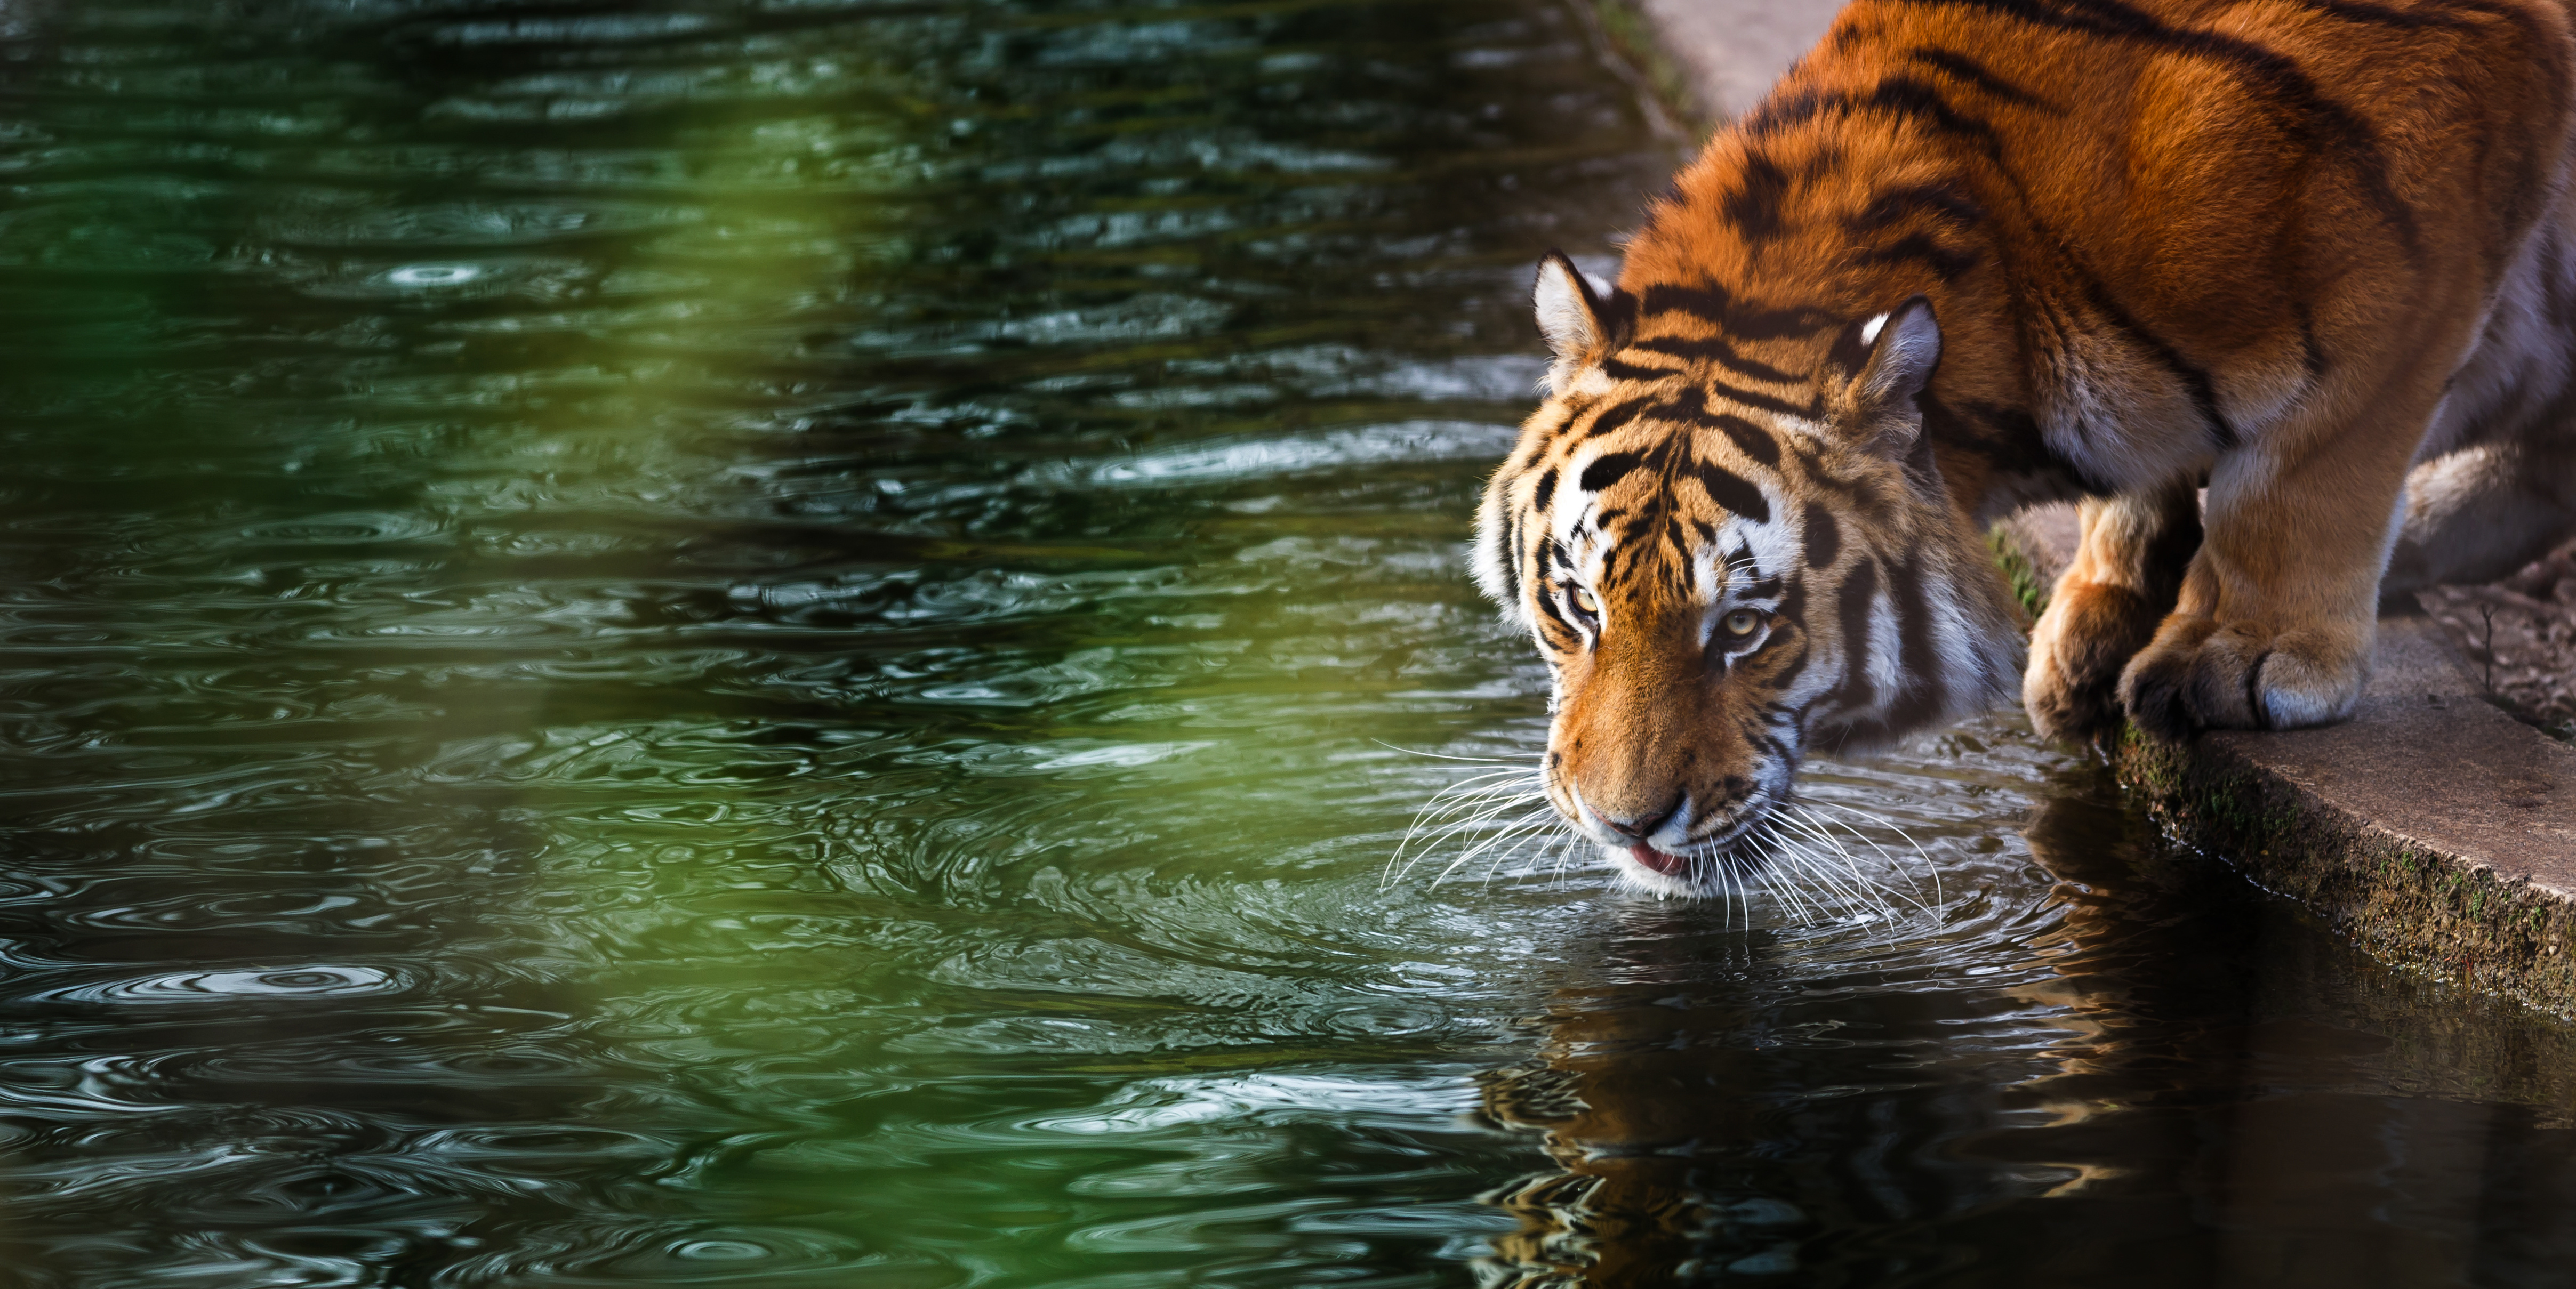tiger: (1468, 8, 2553, 924)
